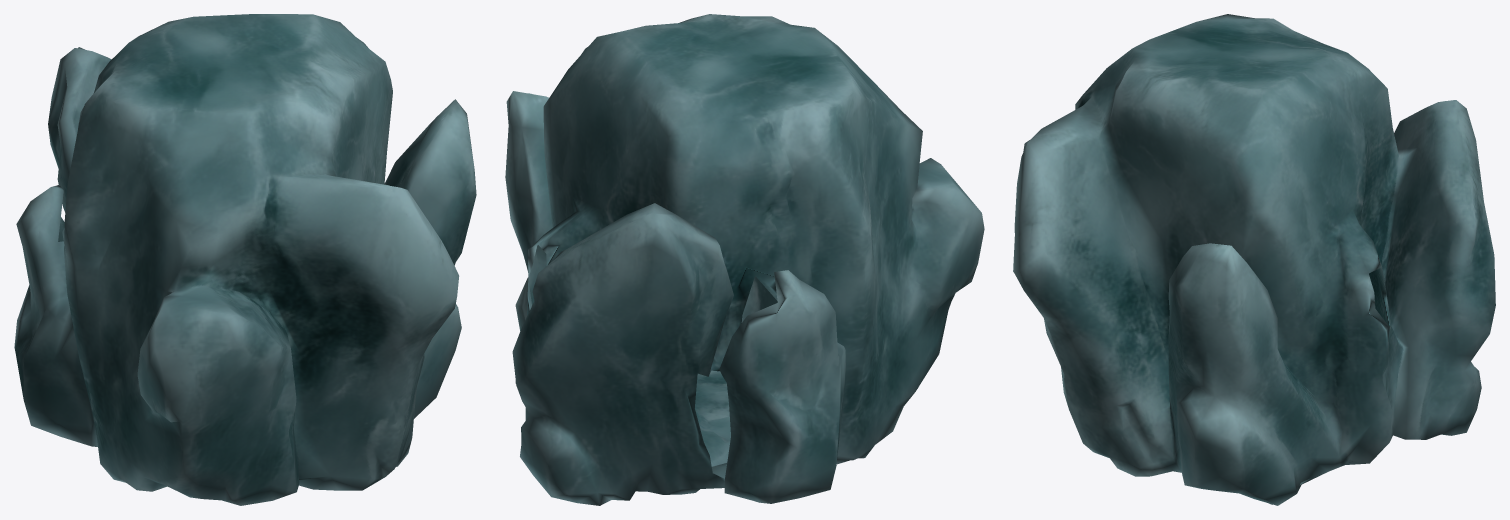
File: led-glyba-kristallicheskaya.glb
The picture shows the model from 3 angles, left to right: view 1: azimuth 30°, elevation 25°; view 2: azimuth 150°, elevation 25°; view 3: azimuth 270°, elevation 25°; orthographic projection. The views are drawn at different scales.
Visible parts, largest first — view 1: geometry_0; view 2: geometry_0; view 3: geometry_0.
Part boxes in pixels (bbox=[...]): geometry_0: bbox=[14, 14, 476, 505]; geometry_0: bbox=[505, 14, 984, 505]; geometry_0: bbox=[1013, 14, 1495, 505].
Size of the model in its own units: 0.8909 by 0.8746 by 1.
1 material, 1 textured.
